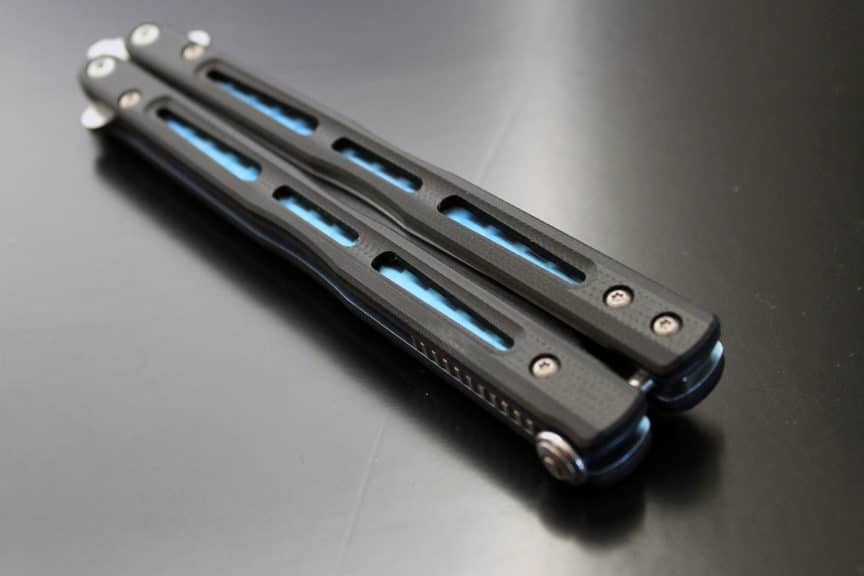knife: (66, 16, 732, 477)
